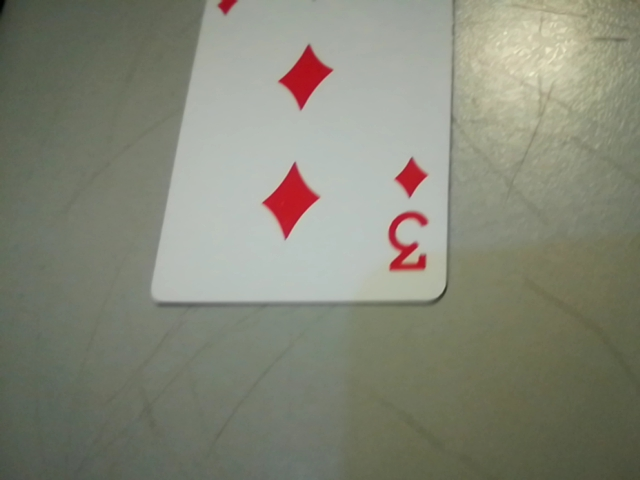fk 3: (379, 154, 444, 285)
